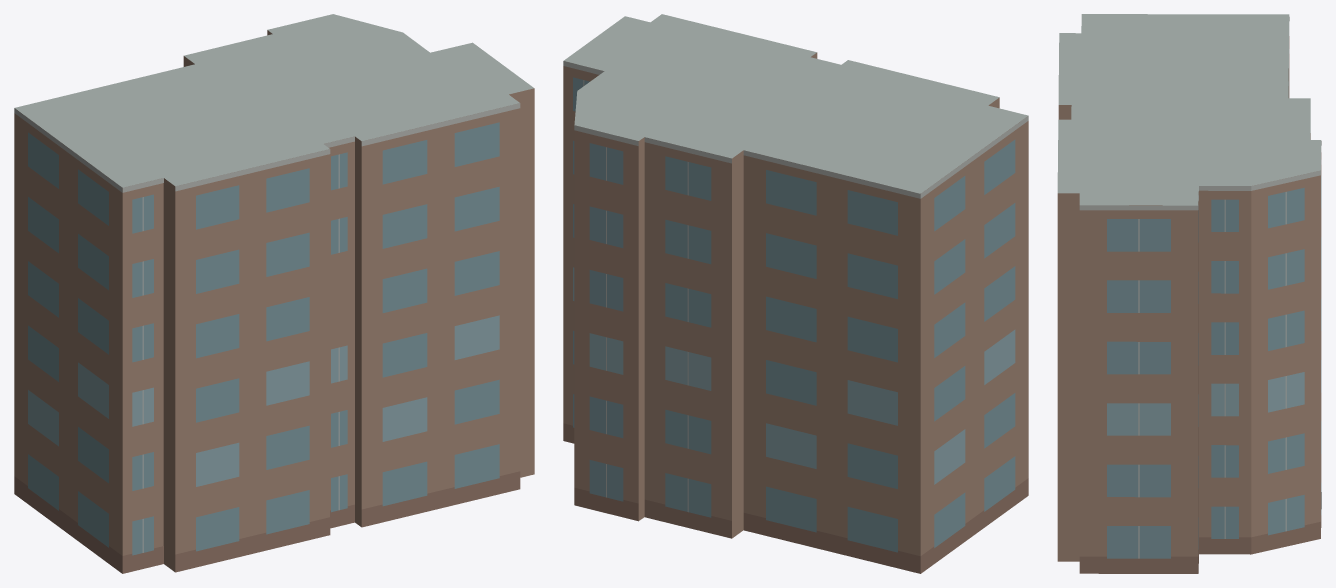
Rendered from survey-upis-32724128.glb.
3 renders of one model, left to right at view 1: azimuth 30°, elevation 25°; view 2: azimuth 150°, elevation 25°; view 3: azimuth 270°, elevation 25°, orthographic. The views are drawn at different scales.
Parts seen in each view (by area): view 1: survey-upis-32724128.tmp; view 2: survey-upis-32724128.tmp; view 3: survey-upis-32724128.tmp.
Boxes of the visible parts, left/top/right/bottom form: survey-upis-32724128.tmp: left=14, top=14, right=534, bottom=573; survey-upis-32724128.tmp: left=563, top=14, right=1028, bottom=573; survey-upis-32724128.tmp: left=1057, top=14, right=1321, bottom=573.
Bounding box in the file's own units: 20.41 × 18.3 × 11.89.
